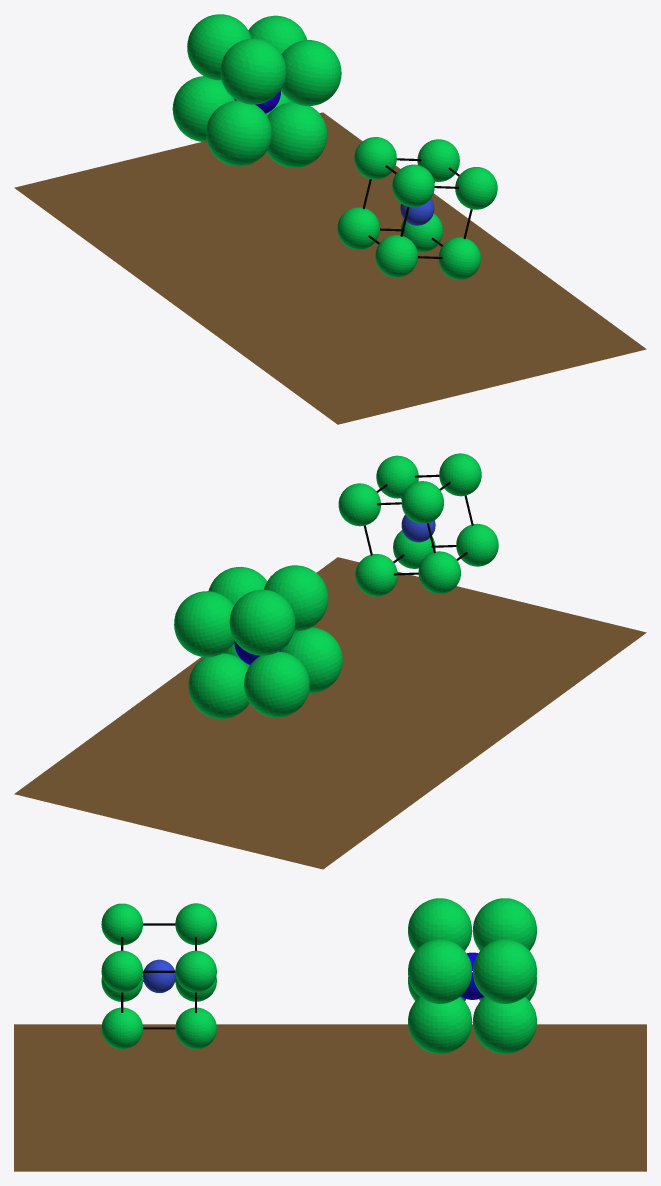
Rendered from CCCuCsCl.gltf.
The picture shows the model from 3 angles, top to bottom: view 1: azimuth 30°, elevation 25°; view 2: azimuth 150°, elevation 25°; view 3: azimuth 270°, elevation 25°; orthographic projection. The views are drawn at different scales.
Parts seen in each view (by area): view 1: Plane, Sphere.003, Sphere.007, Sphere.002, Sphere.006, Sphere, Sphere.004, Sphere.097_Sphere.205, Sphere.101_Sphere.209, Sphere.096_Sphere.204, Sphere.009_Sphere.202, Sphere.100_Sphere.208 (+5 smaller); view 2: Plane, Sphere, Sphere.004, Sphere.001, Sphere.005, Sphere.003, Sphere.007, Sphere.098_Sphere.206, Sphere.009_Sphere.202, Sphere.095_Sphere.203, Sphere.099_Sphere.207, Sphere.097_Sphere.205 (+5 smaller); view 3: Plane, Sphere.002, Sphere.001, Sphere.006, Sphere.005, Sphere, Sphere.003, Sphere.096_Sphere.204, Sphere.095_Sphere.203, Sphere.099_Sphere.207, Sphere.100_Sphere.208, Sphere.097_Sphere.205 (+3 smaller).
Boxes of the visible parts, x1,y1,x2,y2 form: Plane: (14,112,646,424); Sphere.003: (220,38,286,104); Sphere.007: (206,100,271,166); Sphere.002: (280,40,341,106); Sphere.006: (266,102,327,167); Sphere: (187,14,251,80); Sphere.004: (172,76,234,141); Sphere.097_Sphere.205: (392,164,434,207); Sphere.101_Sphere.209: (375,235,417,277); Sphere.096_Sphere.204: (455,167,497,209); Sphere.009_Sphere.202: (354,137,396,179); Sphere.100_Sphere.208: (438,237,480,279); Plane: (14,557,646,869); Sphere: (229,589,295,655); Sphere.004: (244,651,309,717); Sphere.001: (174,591,234,657); Sphere.005: (188,653,249,719); Sphere.003: (264,565,328,631); Sphere.007: (281,627,342,693); Sphere.098_Sphere.206: (418,551,460,594); Sphere.009_Sphere.202: (401,481,443,523); Sphere.095_Sphere.203: (338,483,380,526); Sphere.099_Sphere.207: (355,554,397,596); Sphere.097_Sphere.205: (439,453,481,496); Plane: (14,1024,646,1171); Sphere.002: (408,939,471,1003); Sphere.001: (473,939,536,1003); Sphere.006: (408,997,471,1054); Sphere.005: (473,997,536,1054); Sphere: (473,898,536,950); Sphere.003: (408,898,471,950); Sphere.096_Sphere.204: (101,950,142,992); Sphere.095_Sphere.203: (175,950,216,992); Sphere.099_Sphere.207: (175,1007,216,1049); Sphere.100_Sphere.208: (101,1007,142,1049); Sphere.097_Sphere.205: (101,903,142,945).
Bounding box in the file's own units: 18.66 × 11.02 × 33.85.
